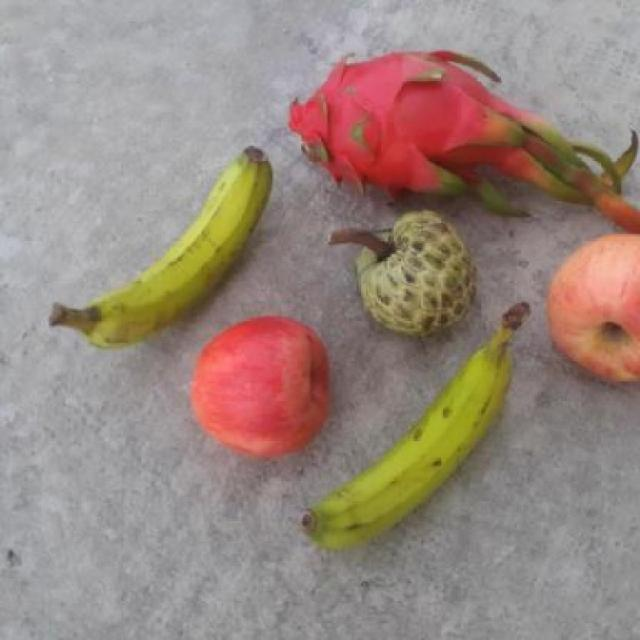apple: (184, 310, 328, 461), (540, 233, 640, 384)
banana: (297, 298, 532, 554), (41, 146, 274, 363)
dragon fruit: (282, 41, 513, 213)
sugar apple: (350, 208, 482, 345)
